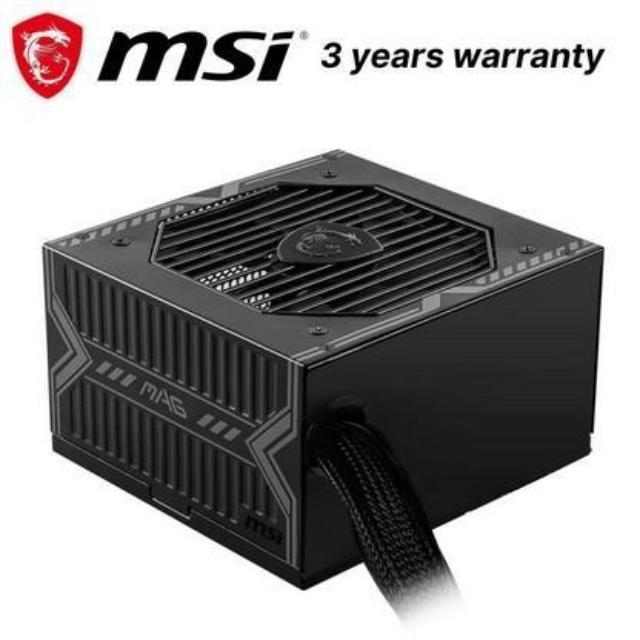PSU: (33, 136, 604, 598)
